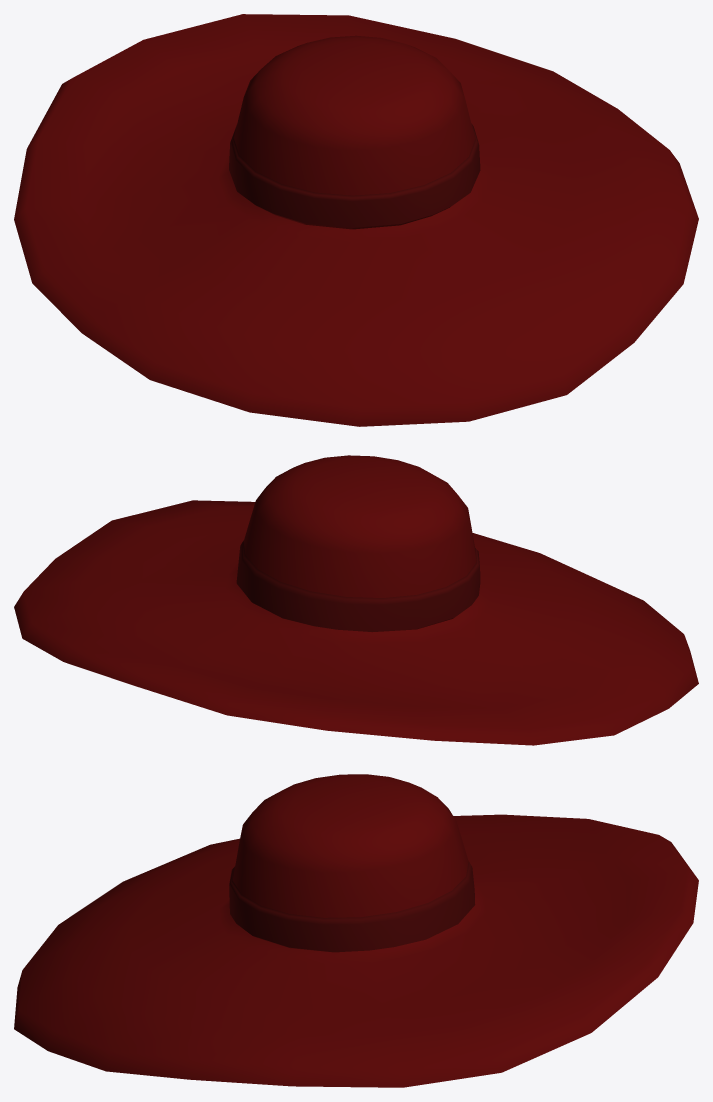
File: Hat_Ladies_large_brim.fbx
3 views of the same model, one above another, from view 1: azimuth 30°, elevation 25°; view 2: azimuth 150°, elevation 25°; view 3: azimuth 270°, elevation 25° (orthographic). The views are drawn at different scales.
Parts seen in each view (by area): view 1: Hat_Ladies_large_brim; view 2: Hat_Ladies_large_brim; view 3: Hat_Ladies_large_brim.
Boxes of the visible parts, x1,y1,x2,y2 form: Hat_Ladies_large_brim: (14, 14, 698, 426); Hat_Ladies_large_brim: (14, 455, 698, 745); Hat_Ladies_large_brim: (14, 774, 698, 1087).
Bounding box in the file's own units: 2.97 × 1.06 × 3.02.
